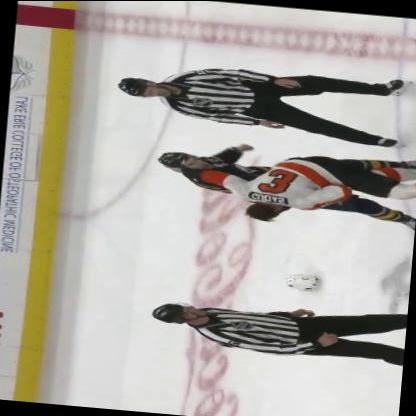non-Voilence: (114, 56, 415, 149), (148, 297, 406, 366)
voilence: (150, 134, 415, 235)
